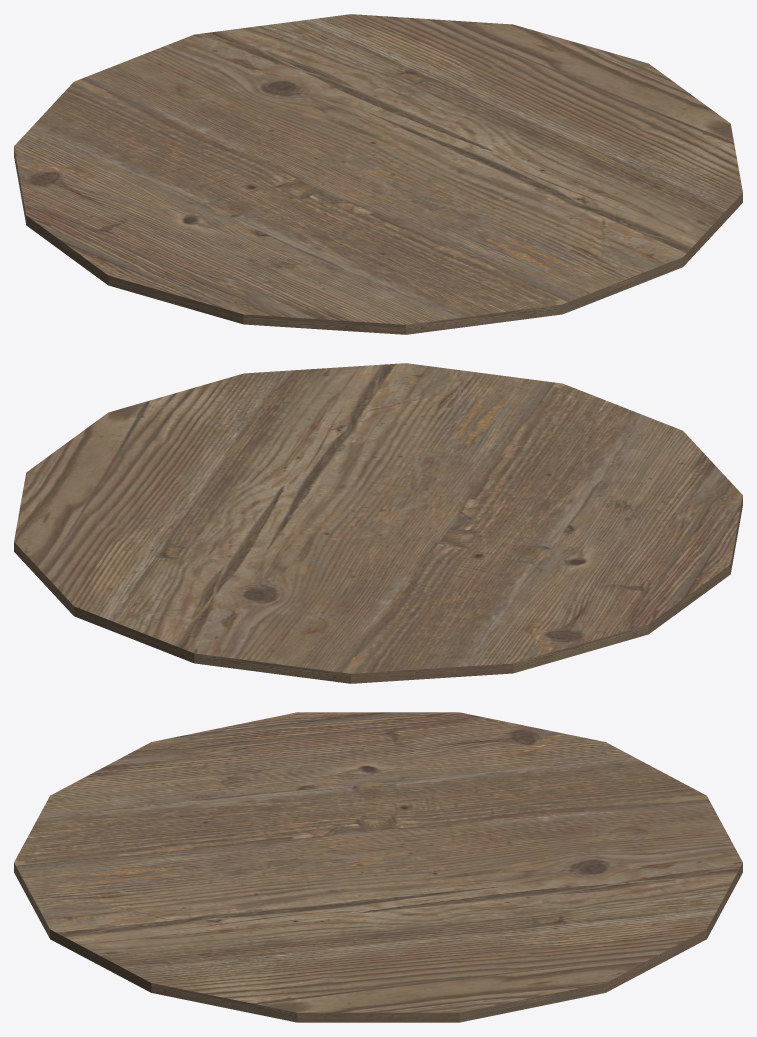
The model's file is StageBase.fbx.
3 views of the same model, one above another, from view 1: azimuth 30°, elevation 25°; view 2: azimuth 150°, elevation 25°; view 3: azimuth 270°, elevation 25° (orthographic).
Parts seen in each view (by area): view 1: Cylinder; view 2: Cylinder; view 3: Cylinder.
Boxes of the visible parts, x1,y1,x2,y2 form: Cylinder: [14, 14, 742, 334]; Cylinder: [14, 363, 742, 683]; Cylinder: [14, 712, 742, 1022].
Bounding box in the file's own units: 975 × 15 × 1000.
